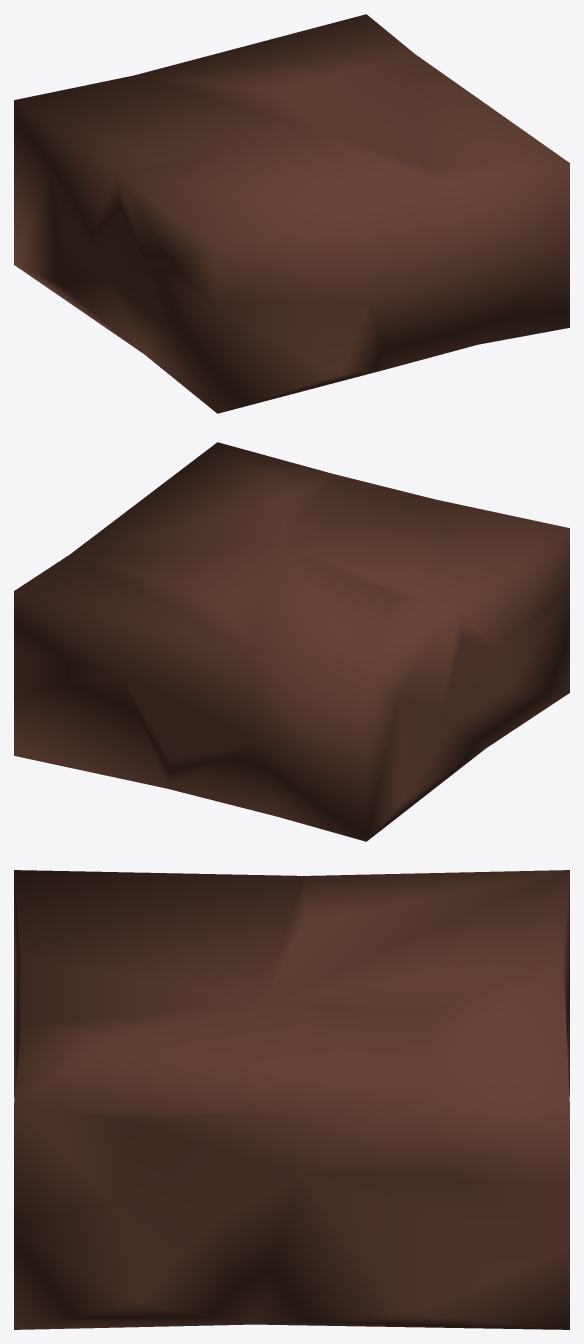
File: underrock_2.glb
3 views of the same model, one above another, from view 1: azimuth 30°, elevation 25°; view 2: azimuth 150°, elevation 25°; view 3: azimuth 270°, elevation 25° (orthographic). The views are drawn at different scales.
Parts seen in each view (by area): view 1: underrock_2; view 2: underrock_2; view 3: underrock_2.
Part boxes in pixels (bbox=[...]): underrock_2: bbox=[14, 14, 569, 413]; underrock_2: bbox=[14, 442, 569, 841]; underrock_2: bbox=[14, 870, 569, 1329].
Bounding box in the file's own units: 2.8 × 1.25 × 2.8.
1 material, 1 textured.
